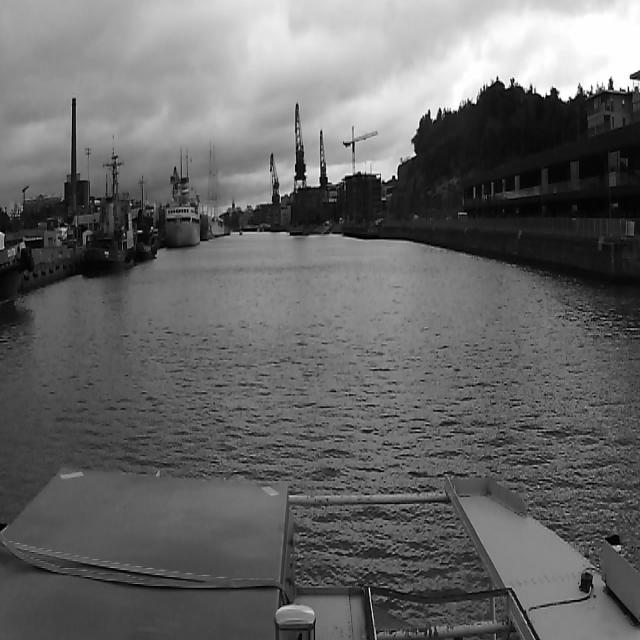ship: (79, 133, 132, 270), (200, 142, 227, 236), (130, 173, 158, 257), (165, 176, 199, 245)
